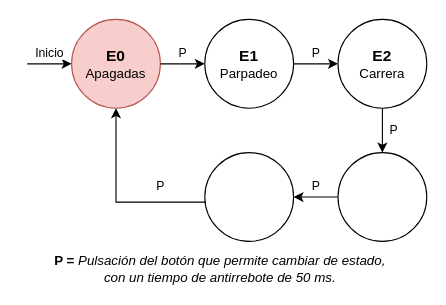
Some shapes in this 446 by 305 pixel diagram are drawn without their labels. Here are the shapes that lost their labels. From the top down, the centre of each, then its label:
point 249,196: E4 Va y Viene
point 382,196: E3 Alternado
